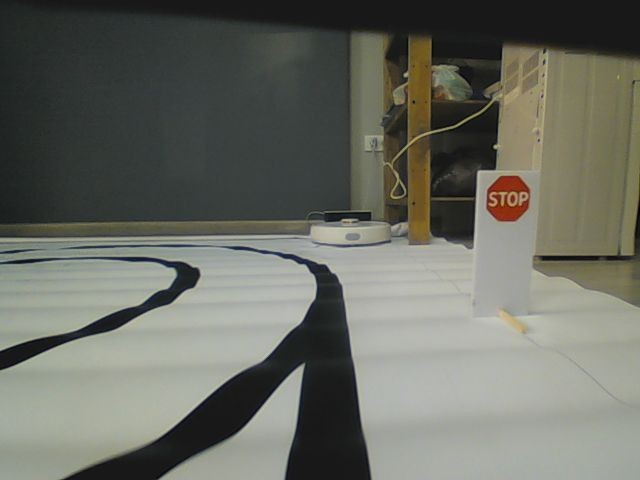Stop: (483, 174, 533, 225)
